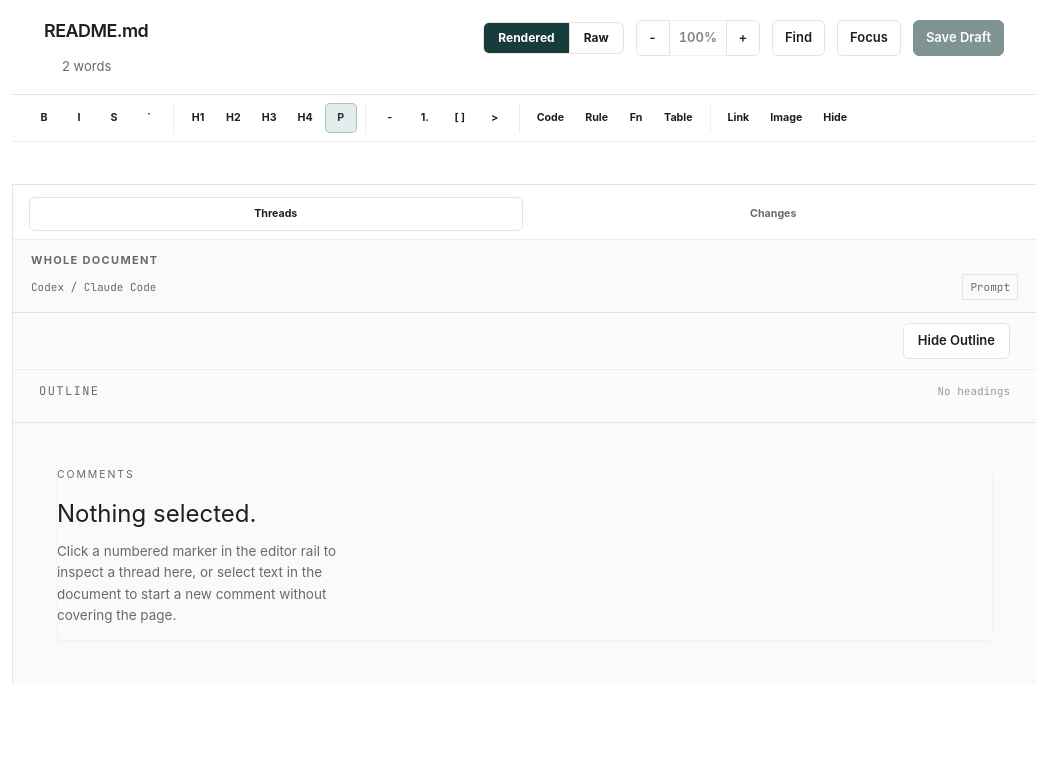
Test: DocumentEditor keyboard shortcuts › shows document proposals in the Changes tab
Click the tab "Changes" at (773, 214), box [526,197,1020,231]
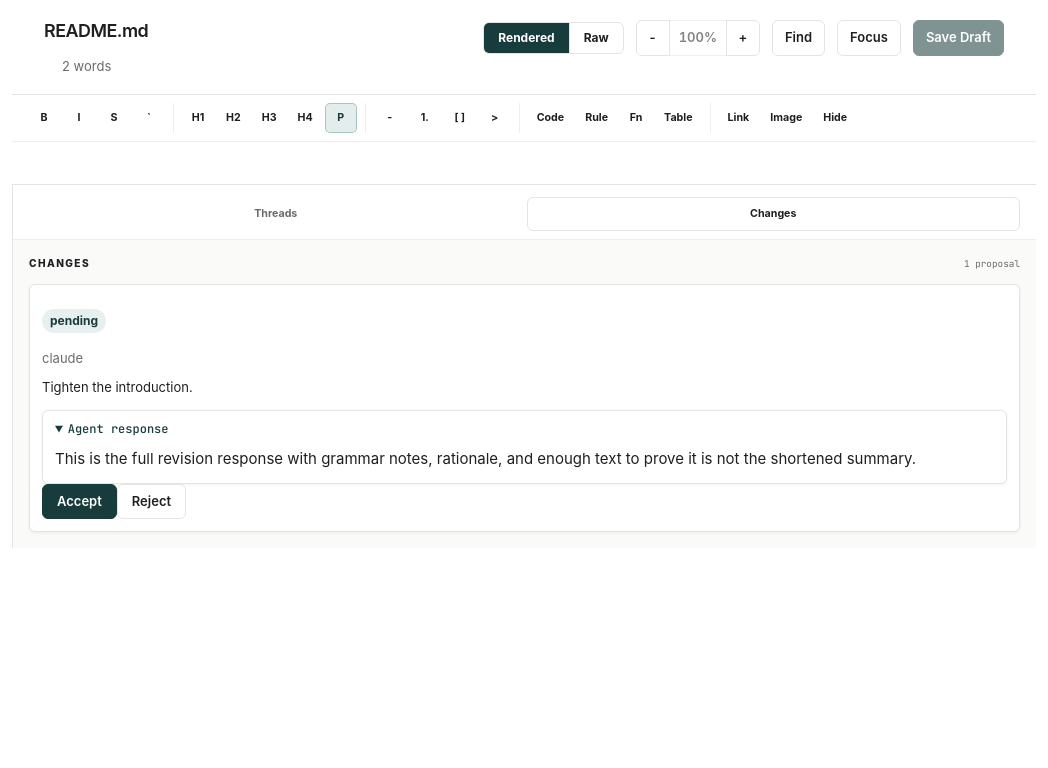
Result: the text "Tighten the introduction." is shown at [42,379,193,395]
Result: the text "1 proposal" is shown at [964,257,1020,271]
